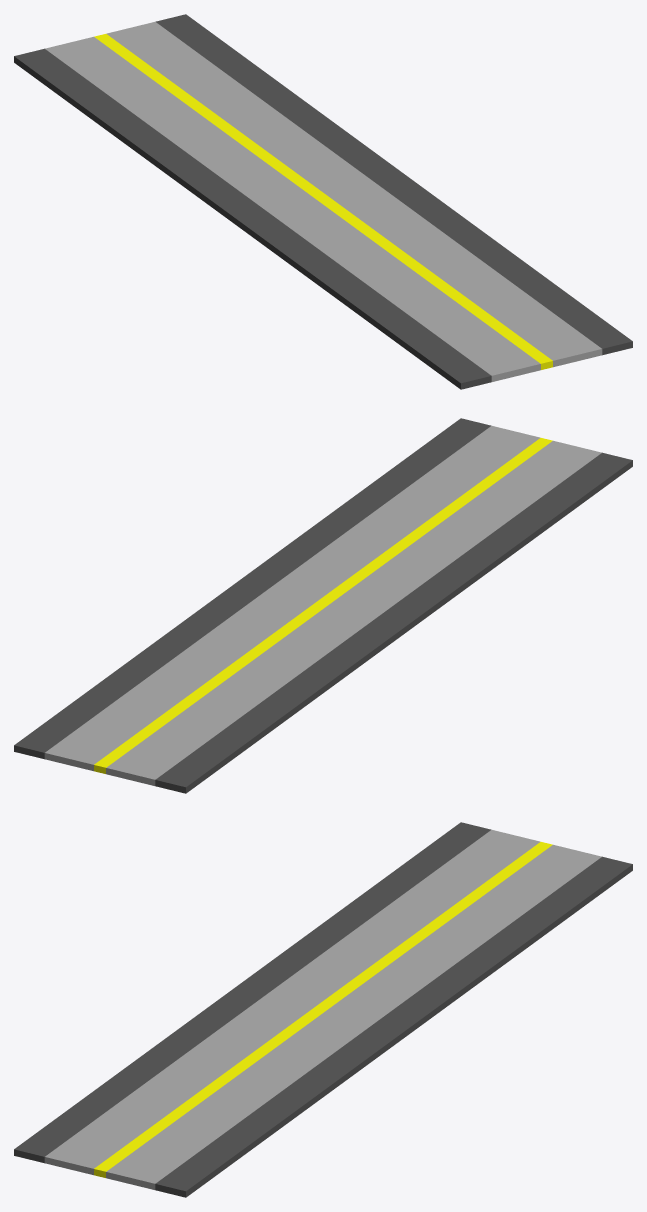
File: road.obj
The picture shows the model from 3 angles, top to bottom: view 1: azimuth 30°, elevation 25°; view 2: azimuth 150°, elevation 25°; view 3: azimuth 330°, elevation 25°; orthographic projection.
Bounding box in the file's own units: 28 × 1 × 126.
1 material, 1 textured.
